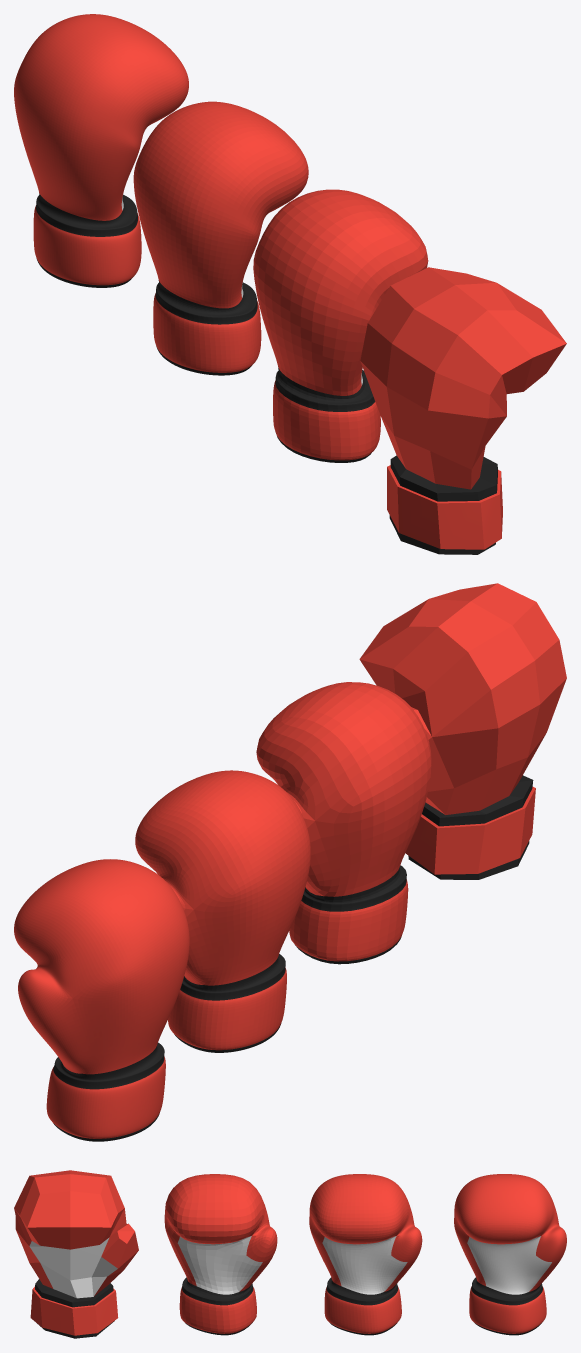
Rendered from Boxing_Gloves_-_Right_Handed.glb.
3 renders of one model, top to bottom at view 1: azimuth 30°, elevation 25°; view 2: azimuth 150°, elevation 25°; view 3: azimuth 270°, elevation 25°, orthographic. The views are drawn at different scales.
Visible parts, largest first — view 1: Boxing Glove.001_Glove Material_0, Boxing Glove.004_Glove Material_0 (×2), Boxing Glove.003_Glove Material_0, Boxing Glove.002_Glove Material_0; view 2: Boxing Glove.001_Glove Material_0, Boxing Glove.004_Glove Material_0 (×2), Boxing Glove.003_Glove Material_0, Boxing Glove.002_Glove Material_0; view 3: Boxing Glove.001_Glove Material_0, Boxing Glove.004_Glove Material_0 (×2), Boxing Glove.003_Glove Material_0, Boxing Glove.002_Glove Material_0.
Part boxes in pixels (x1,y1,x2,y2): Boxing Glove.001_Glove Material_0: (360, 267, 566, 554); Boxing Glove.004_Glove Material_0 (×2): (14, 14, 188, 287); Boxing Glove.003_Glove Material_0: (133, 101, 308, 375); Boxing Glove.002_Glove Material_0: (253, 189, 428, 462); Boxing Glove.001_Glove Material_0: (359, 583, 566, 879); Boxing Glove.004_Glove Material_0 (×2): (14, 859, 189, 1141); Boxing Glove.003_Glove Material_0: (135, 770, 310, 1052); Boxing Glove.002_Glove Material_0: (256, 682, 431, 964); Boxing Glove.001_Glove Material_0: (14, 1170, 138, 1338); Boxing Glove.004_Glove Material_0 (×2): (454, 1174, 566, 1335); Boxing Glove.003_Glove Material_0: (309, 1174, 422, 1335); Boxing Glove.002_Glove Material_0: (164, 1174, 277, 1335).
Bounding box in the file's own units: 673 × 1037 × 3438.
Materials: 1 (1 with a texture image).
